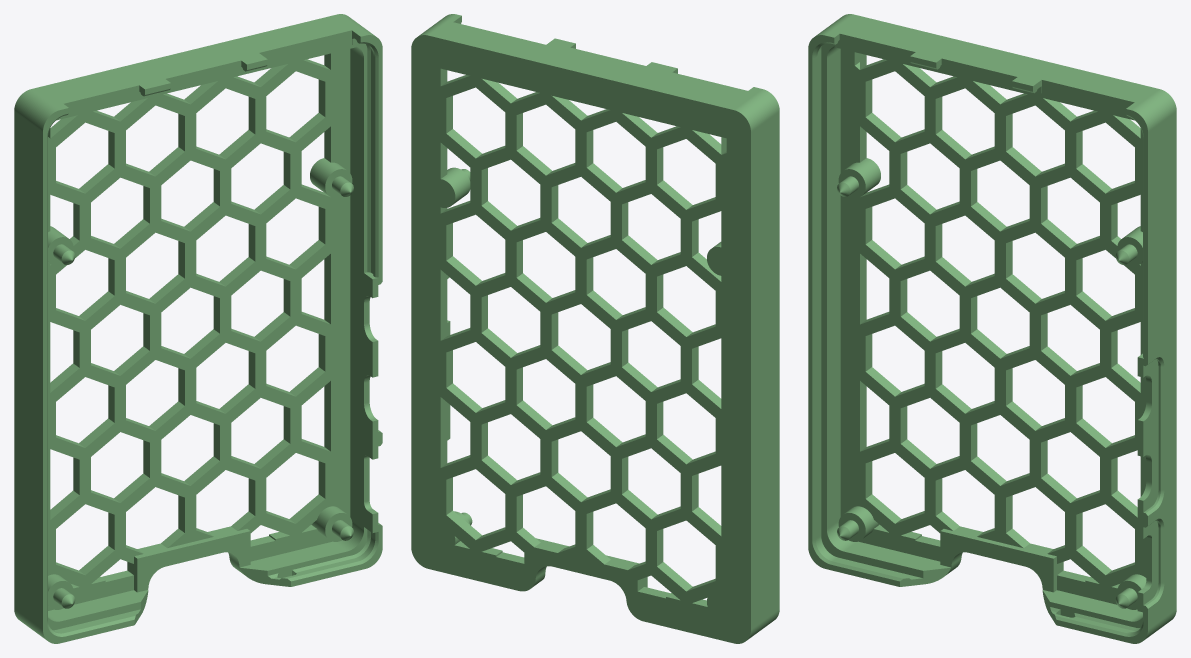
The model's file is other-homeracker-pi5-case-5.glb.
The picture shows the model from 3 angles, left to right: view 1: azimuth 30°, elevation 25°; view 2: azimuth 150°, elevation 25°; view 3: azimuth 330°, elevation 25°; orthographic projection.
Parts seen in each view (by area): view 1: HomeRacker+-+Pi5+Case.3mf; view 2: HomeRacker+-+Pi5+Case.3mf; view 3: HomeRacker+-+Pi5+Case.3mf.
Boxes of the visible parts, left/top/right/bottom form: HomeRacker+-+Pi5+Case.3mf: left=14, top=14, right=382, bottom=643; HomeRacker+-+Pi5+Case.3mf: left=411, top=14, right=779, bottom=643; HomeRacker+-+Pi5+Case.3mf: left=808, top=14, right=1176, bottom=643.
Size of the model in its own units: 60 by 90 by 8.8.
